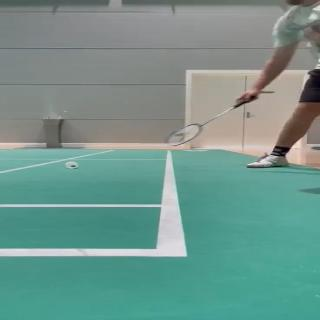Shuttle: (65, 161, 79, 169)
